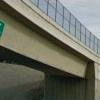Bridge: (11, 1, 96, 76)
